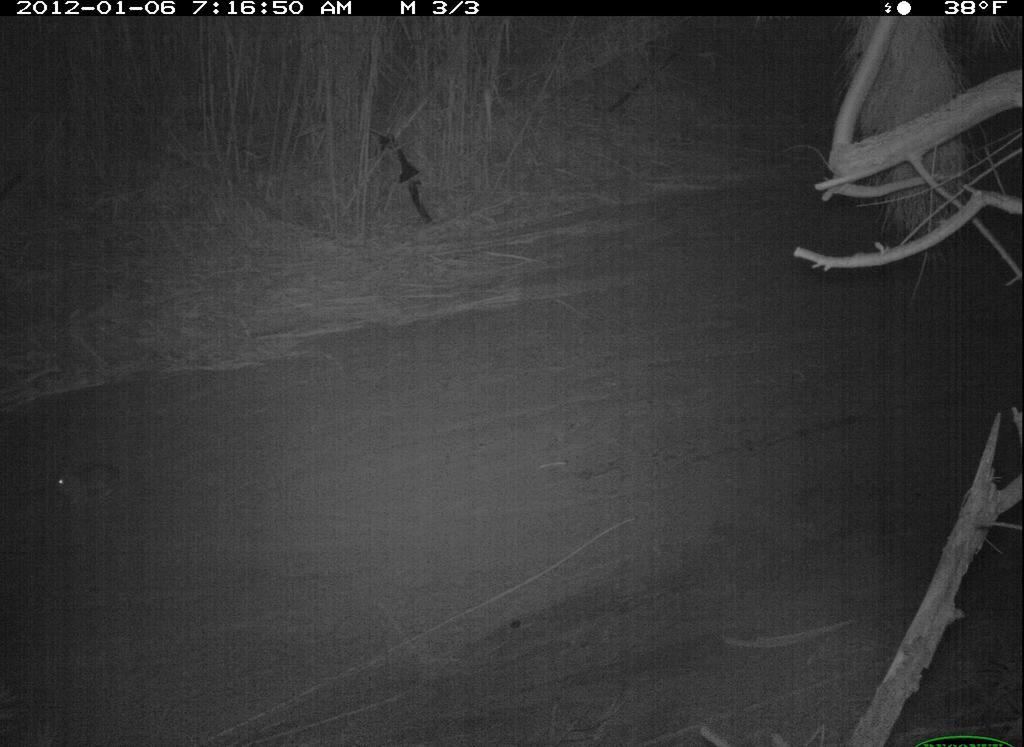rabbit: (48, 452, 121, 521)
